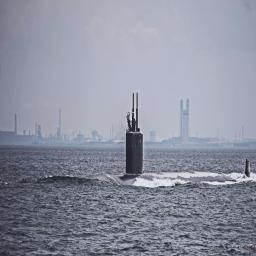submarine: (80, 91, 253, 195)
